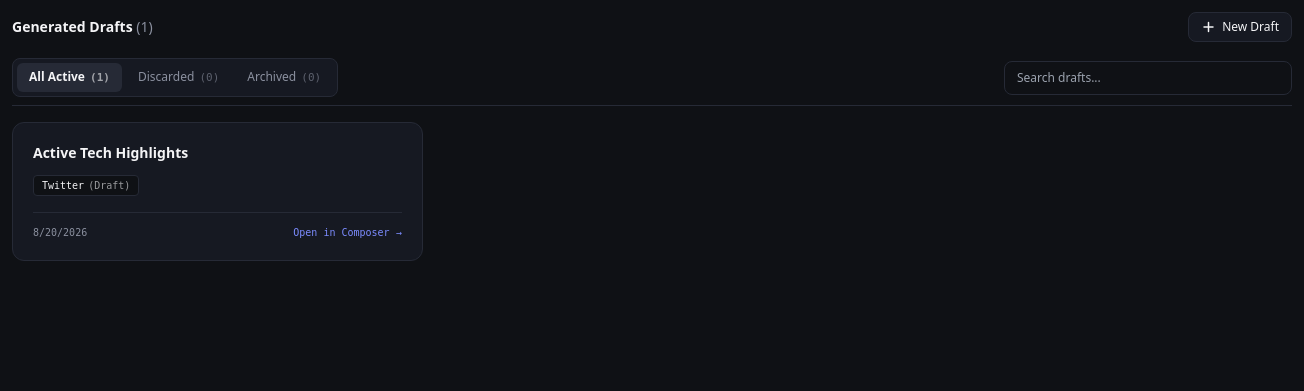
Scenario: WorkflowDraftsList › renders empty state when tab has no drafts and provides clear action
Click the button with test id "filter-tab-discarded": (179, 78) [126, 63, 231, 92]
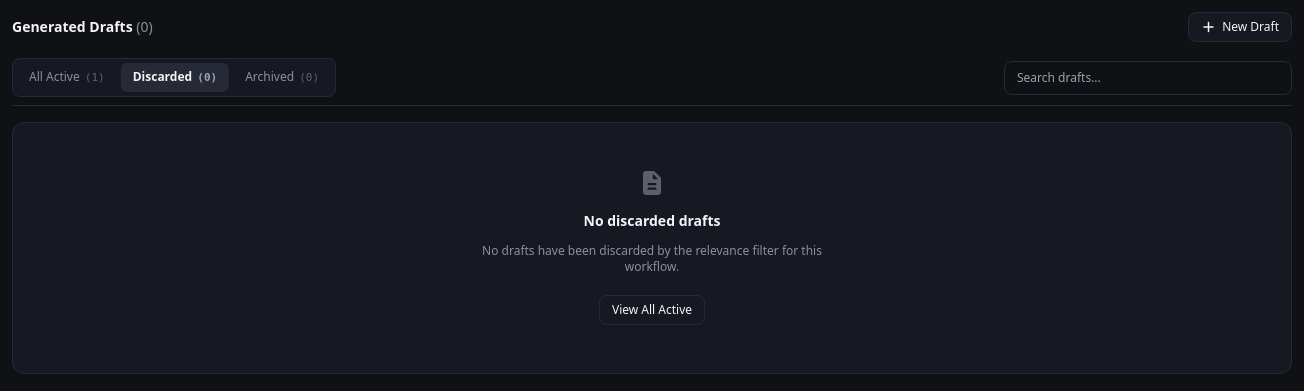
expect the heading "No discarded drafts" is shown: met, box [584, 211, 720, 231]
expect the text "View All Active" is shown: met, box [612, 302, 692, 318]
Click the button "View All Active": (652, 310) [599, 295, 705, 325]
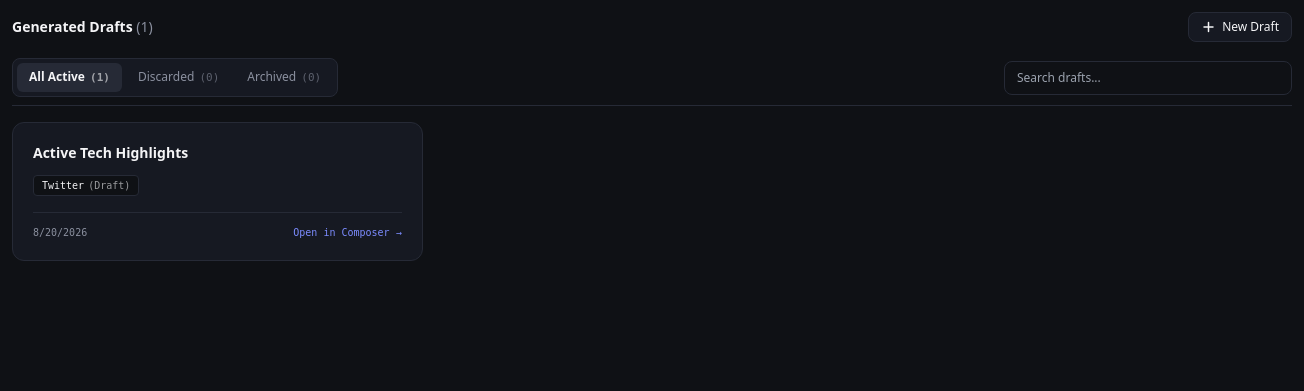
expect the heading "Active Tech Highlights" is shown: met, box [33, 143, 188, 163]
